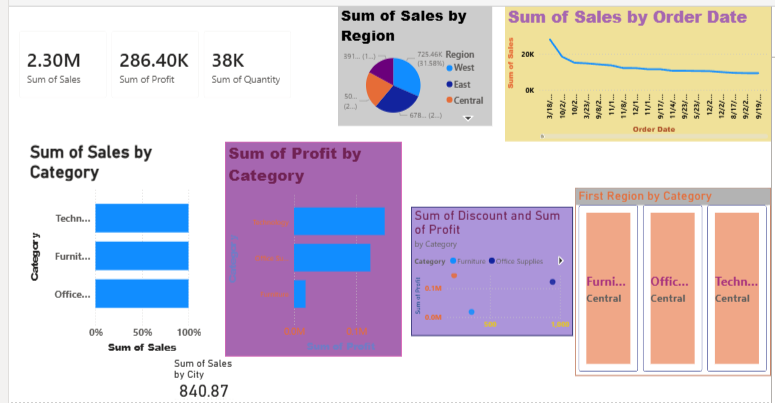

What the dashboard file says about the page in this screenshot:
{"tool":"powerbi","page":{"name":"Page 1","canvas":[1280,720],"ordinal":0},"visuals":[{"type":"cardVisual","fields":{"Data":["Sum(Sample - Superstore.Sales)","Sum(Sample - Superstore.Profit)","Sum(Sample - Superstore.Quantity)"]},"box":[0,79,493.9,147.8],"z":0},{"type":"hundredPercentStackedBarChart","fields":{"Category":["Sample - Superstore.Category"],"Y":["Sum(Sample - Superstore.Sales)"]},"box":[30.2,282.2,297.3,361.2],"z":1000},{"type":"barChart","fields":{"Category":["Sample - Superstore.Category"],"Y":["Sum(Sample - Superstore.Profit)"]},"box":[362,282,297,361],"z":2000},{"type":"pieChart","fields":{"Category":["Sample - Superstore.Region"],"Y":["Sum(Sample - Superstore.Sales)"]},"box":[552.7,53.8,258.7,201.6],"z":3000},{"type":"lineChart","fields":{"Category":["Sample - Superstore.Order Date"],"Y":["Sum(Sample - Superstore.Sales)"]},"box":[833.2,53.8,446.8,228.5],"z":4000},{"type":"scatterChart","fields":{"X":["Sum(Sample - Superstore.Discount)"],"Y":["Sum(Sample - Superstore.Profit)"],"Series":["Sample - Superstore.Category"]},"box":[675.3,391.4,272.1,216.7],"z":5000},{"type":"advancedSlicerVisual","fields":{"Values":["Sample - Superstore.Category"],"Label":["Min(Sample - Superstore.Region)"]},"box":[950.8,359.5,329.2,315.8],"z":6000},{"type":"kpi","fields":{"Indicator":["Sum(Sample - Superstore.Sales)"],"TrendLine":["Sample - Superstore.City"]},"box":[272.1,643.4,110.9,77.3],"z":7000}]}

Visuals, with their boxes in screenshot pixels (x1, y1, x2, y2):
cardVisual - Sum(Sample - Superstore.Sales) x Sum(Sample - Superstore.Profit): 8:21:302:109
hundredPercentStackedBarChart - Sample - Superstore.Category x Sum(Sample - Superstore.Sales): 26:141:203:356
barChart - Sample - Superstore.Category x Sum(Sample - Superstore.Profit): 223:141:400:356
pieChart - Sample - Superstore.Region x Sum(Sample - Superstore.Sales): 337:6:490:126
lineChart - Sample - Superstore.Order Date x Sum(Sample - Superstore.Sales): 503:6:769:142
scatterChart - Sum(Sample - Superstore.Discount) x Sum(Sample - Superstore.Profit): 409:206:571:335
advancedSlicerVisual - Sample - Superstore.Category x Min(Sample - Superstore.Region): 573:187:769:375
kpi - Sum(Sample - Superstore.Sales) x Sample - Superstore.City: 170:356:236:402
